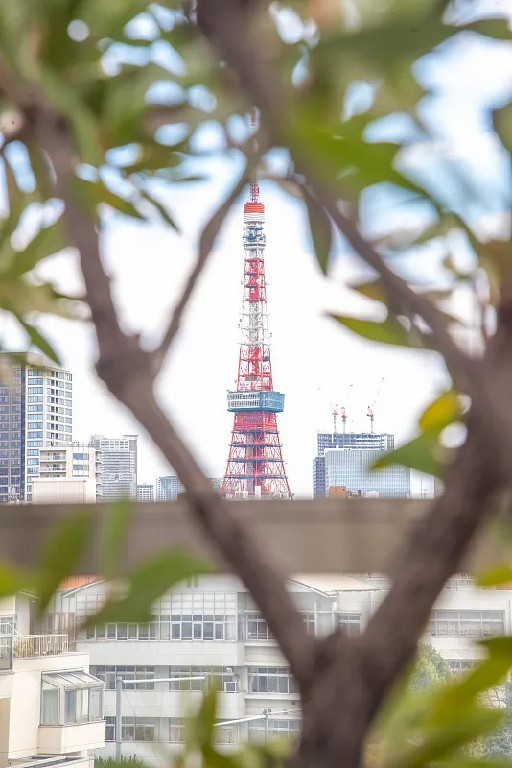Tokyo: (216, 105, 293, 498)
